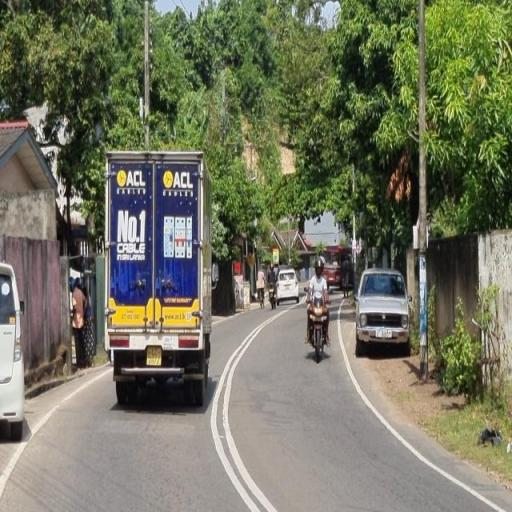double_white_line: (337, 309, 505, 511), (209, 298, 283, 510)
